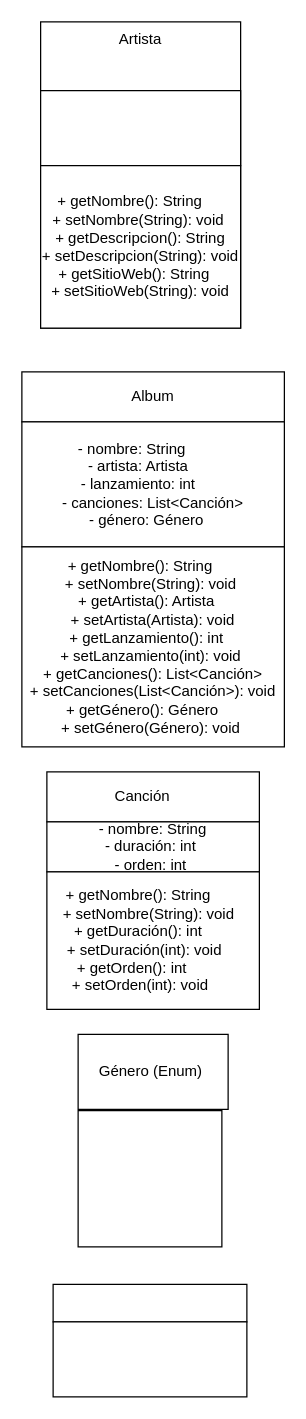
Some shapes in this 306 by 1419 pixel diagram are drawn without their labels. The box of each missing label's shape, as (x1, y1, x2, y2) in pixels:
+ main(String[] args): void: (52, 1321, 247, 1397)
- nombre: String - descripcion: String - sitioWeb: String: (39, 89, 241, 166)
DANCE SALSA OTRO POP ROCK: (77, 1109, 222, 1247)
Main: (52, 1283, 247, 1322)
